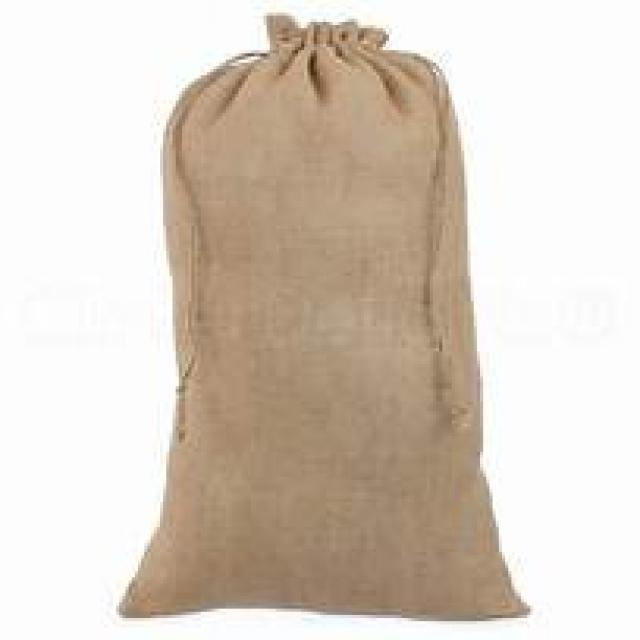gunny_bag: (111, 13, 530, 627)
